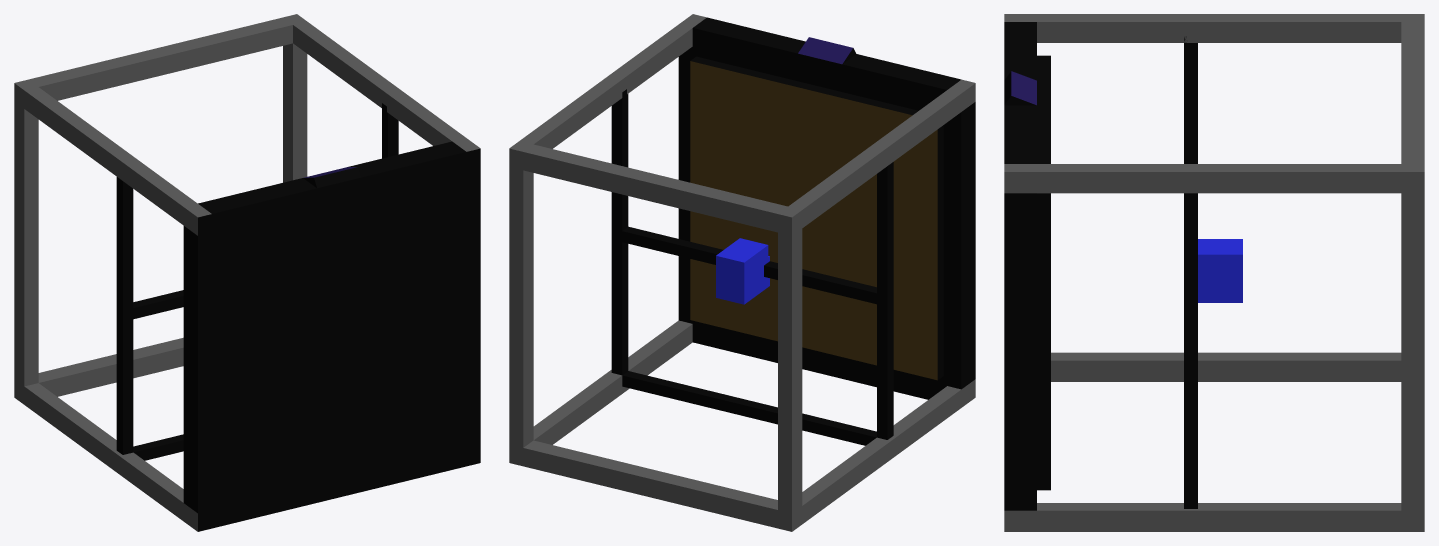
Rendered from 2ndPrinter.fbx.
3 views of the same model, side by side, from view 1: azimuth 30°, elevation 25°; view 2: azimuth 150°, elevation 25°; view 3: azimuth 270°, elevation 25° (orthographic). The views are drawn at different scales.
Parts seen in each view (by area): view 1: PrinterFrame, Z-Axys, Y-Axys; view 2: PrinterFrame, Z-Axys, Y-Axys, ToolHead; view 3: PrinterFrame, Z-Axys, ToolHead.
Part boxes in pixels (x1,y1,x2,y2): PrinterFrame: [14, 14, 480, 531]; Z-Axys: [116, 103, 398, 460]; Y-Axys: [130, 290, 183, 319]; PrinterFrame: [509, 14, 975, 531]; Z-Axys: [611, 89, 893, 445]; Y-Axys: [618, 226, 877, 304]; ToolHead: [716, 238, 769, 304]; PrinterFrame: [1004, 14, 1424, 531]; Z-Axys: [1184, 36, 1197, 508]; ToolHead: [1198, 239, 1242, 302].
Size of the model in its own units: 8000 by 8725 by 9000.
